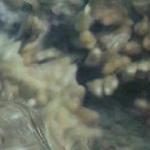alive: (3, 1, 145, 146)
